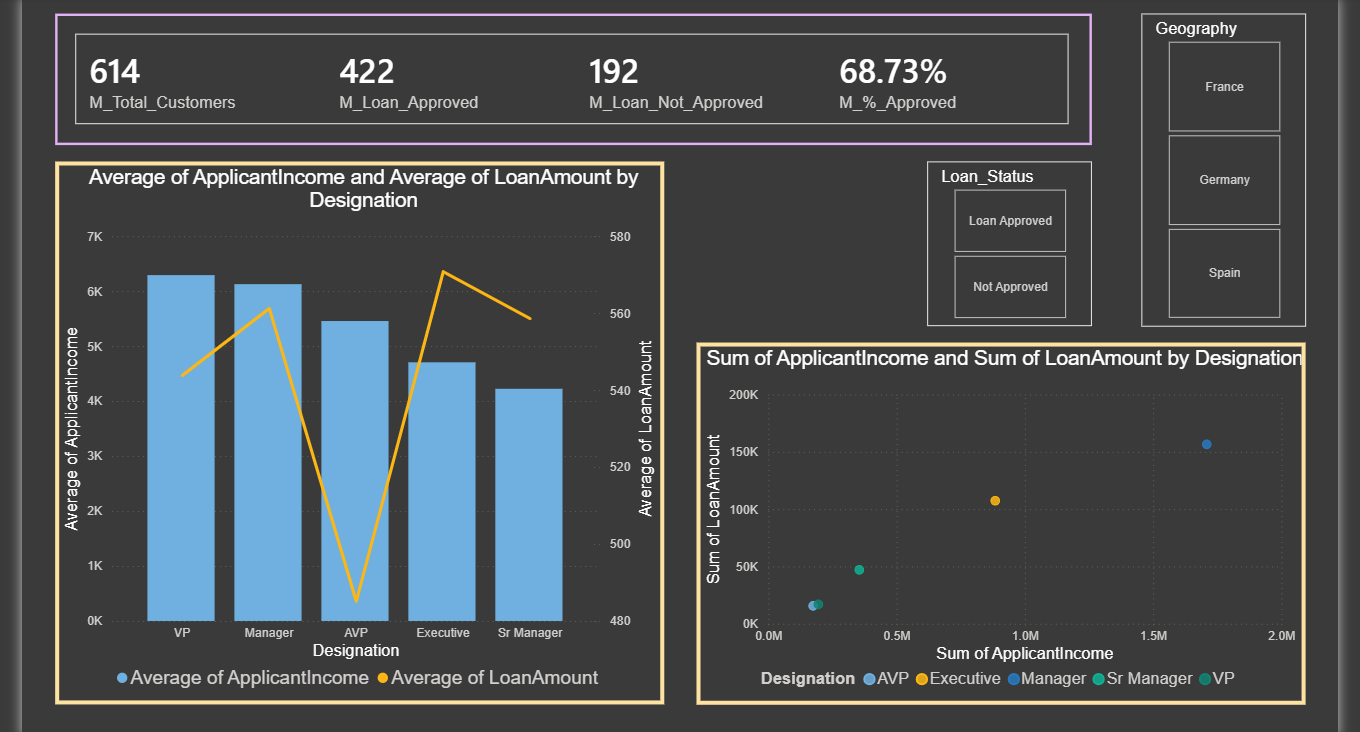

Layout of this report page (visuals, bound fields, positions):
{"tool":"powerbi","page":{"name":"LoanVsIncome Dual-Axis Chart","canvas":[1280,720],"ordinal":1},"visuals":[{"type":"lineClusteredColumnComboChart","fields":{"Category":["LoanData.Designation"],"Y":["Avg(LoanData.ApplicantIncome)"],"Y2":["Avg(LoanData.LoanAmount)"]},"box":[32,160,592,528],"z":0},{"type":"scatterChart","fields":{"Series":["LoanData.Designation"],"X":["Sum(LoanData.ApplicantIncome)"],"Y":["Sum(LoanData.LoanAmount)"]},"box":[656,336,592,352],"z":1},{"type":"slicer","fields":{"Values":["LoanData.Geography"]},"box":[1088,16,160,304],"z":2},{"type":"slicer","fields":{"Values":["LoanData.Loan_Status"]},"box":[880,160,160,160],"z":3},{"type":"cardVisual","fields":{"Data":["LoanData.M_Total_Customers","LoanData.M_Loan_Approved","LoanData.M_Loan_Not_Approved","LoanData.M_%_Approved"]},"box":[32,16,1008,128],"z":4}]}

Visuals, with their boxes on the page's 1280x720 design canvas (x1, y1, x2, y2). These are canvas units, not pixel positions in the 1360x732 screenshot, which may show the page scaled, cropped or inside an application window:
lineClusteredColumnComboChart - LoanData.Designation x Avg(LoanData.ApplicantIncome): bbox=[32, 160, 624, 688]
scatterChart - LoanData.Designation x Sum(LoanData.ApplicantIncome): bbox=[656, 336, 1248, 688]
slicer - LoanData.Geography: bbox=[1088, 16, 1248, 320]
slicer - LoanData.Loan_Status: bbox=[880, 160, 1040, 320]
cardVisual - LoanData.M_Total_Customers x LoanData.M_Loan_Approved: bbox=[32, 16, 1040, 144]
